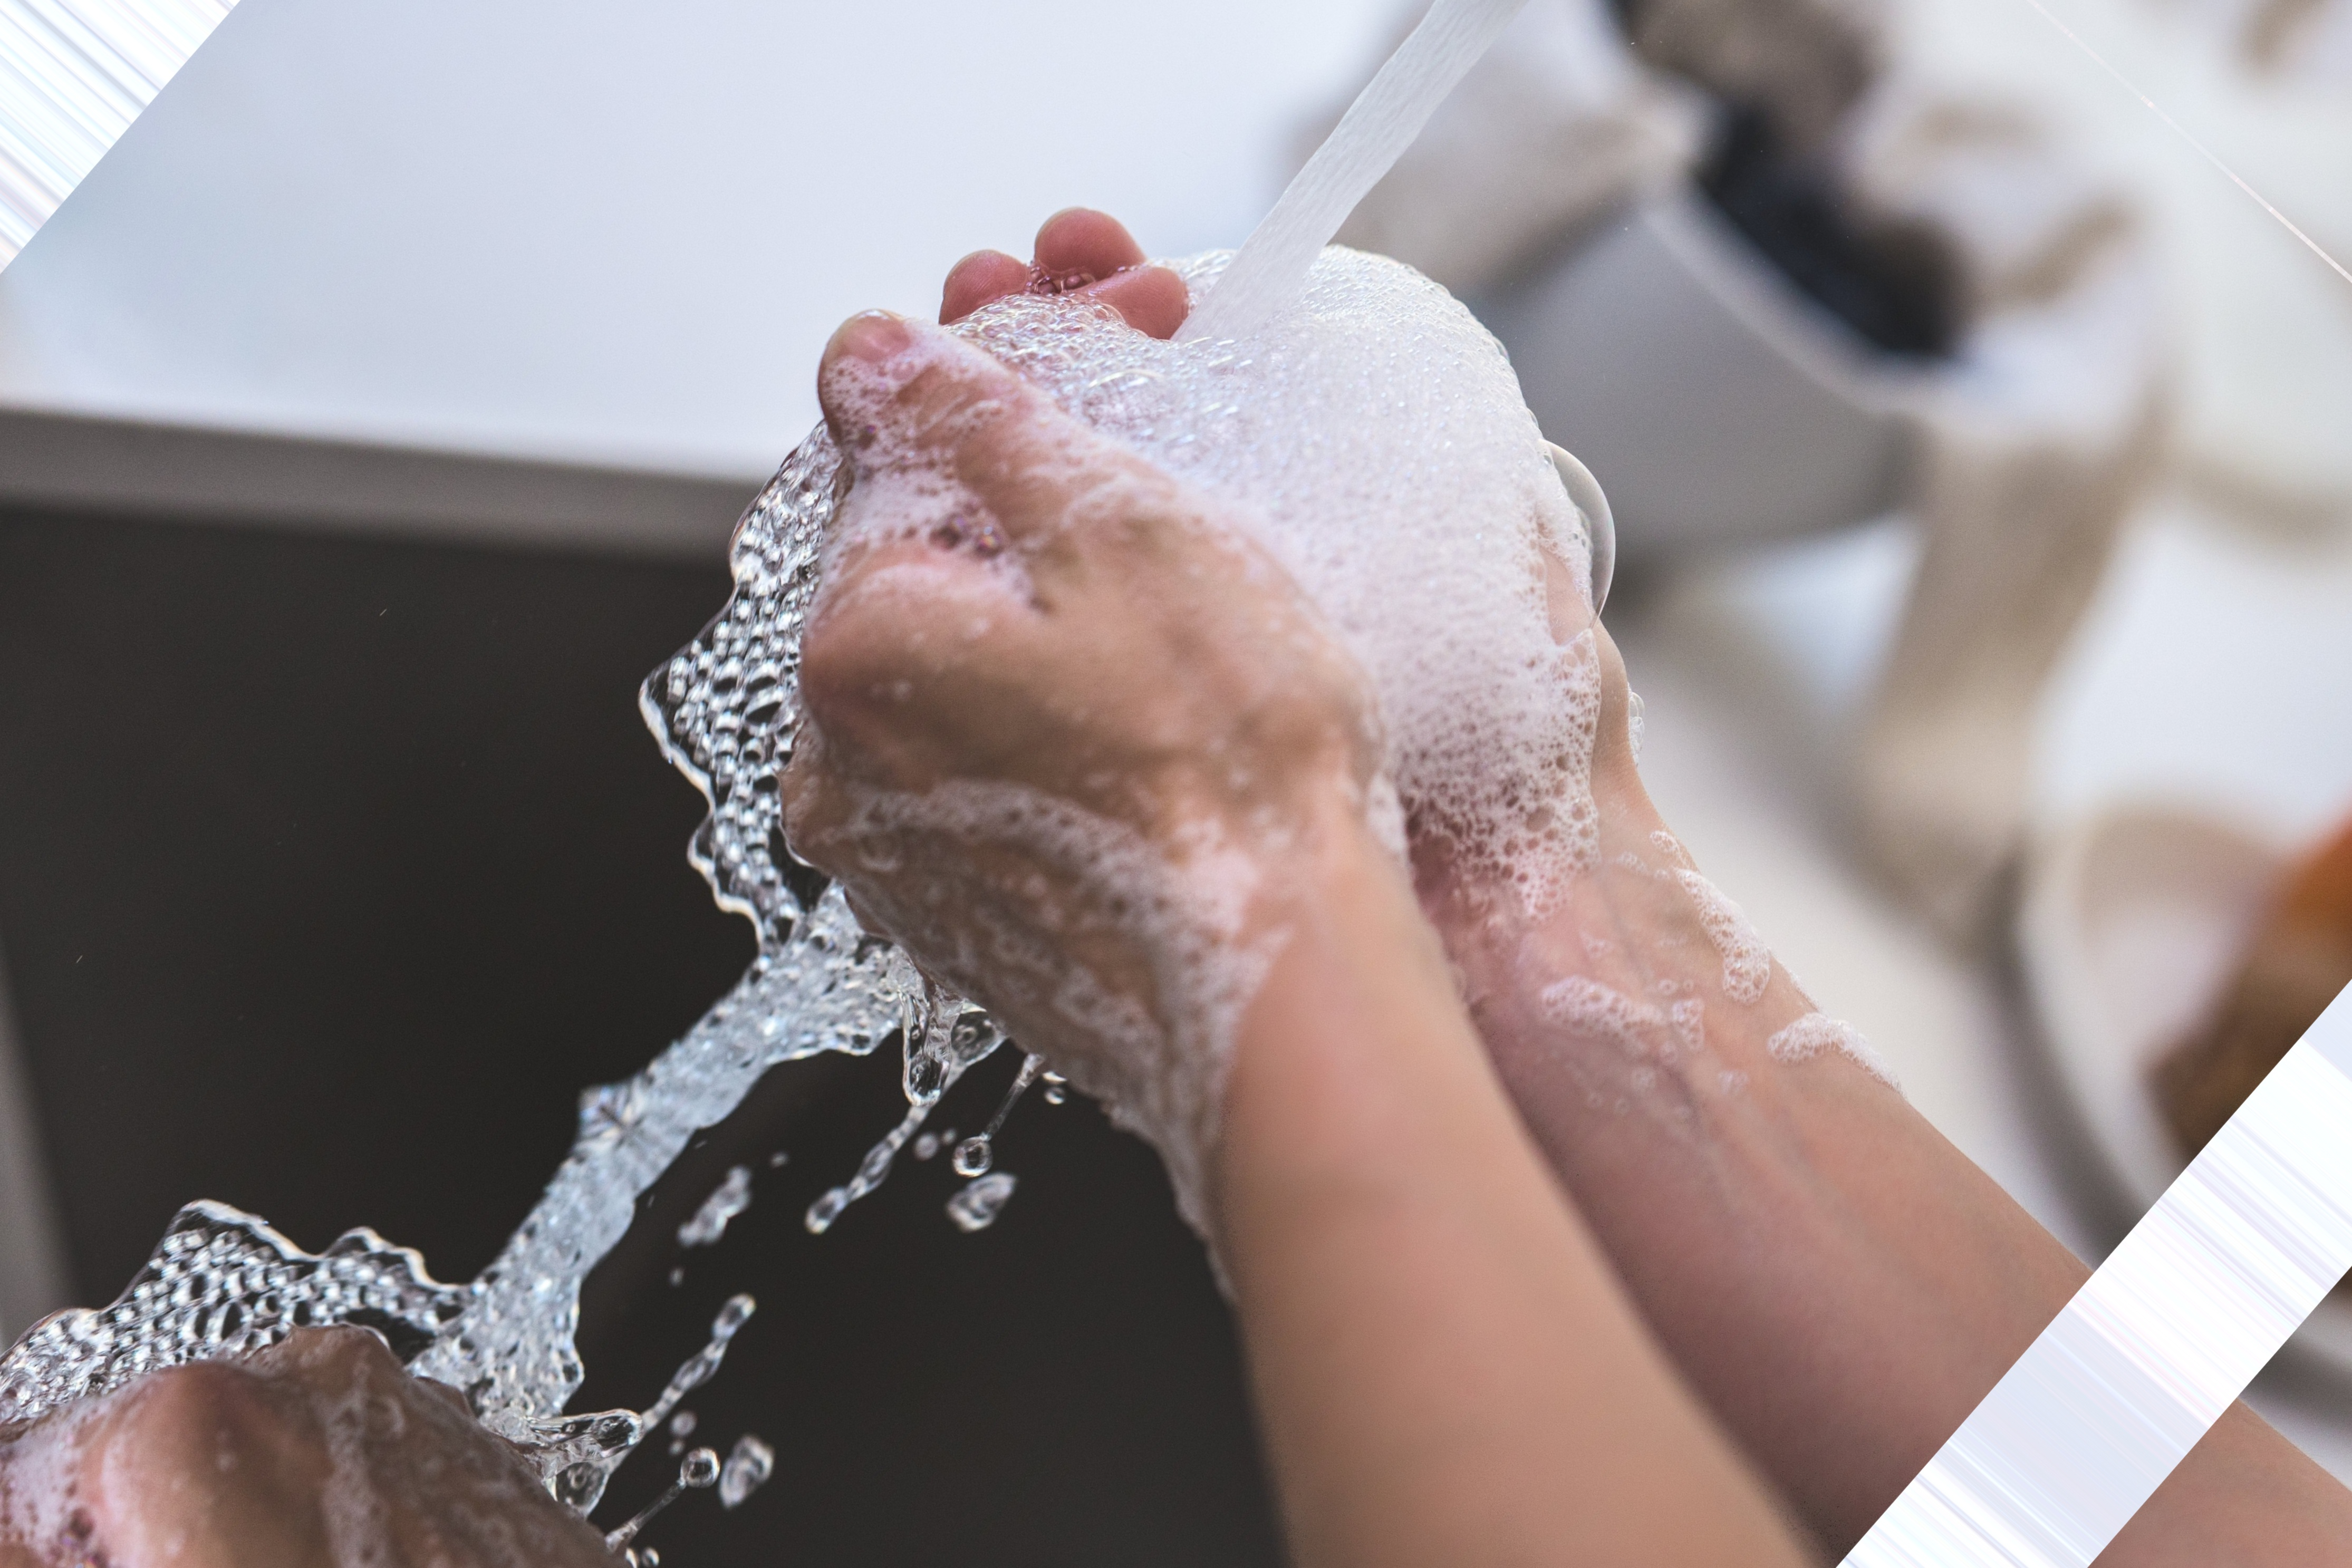washing hand: (252, 0, 2284, 1421)
